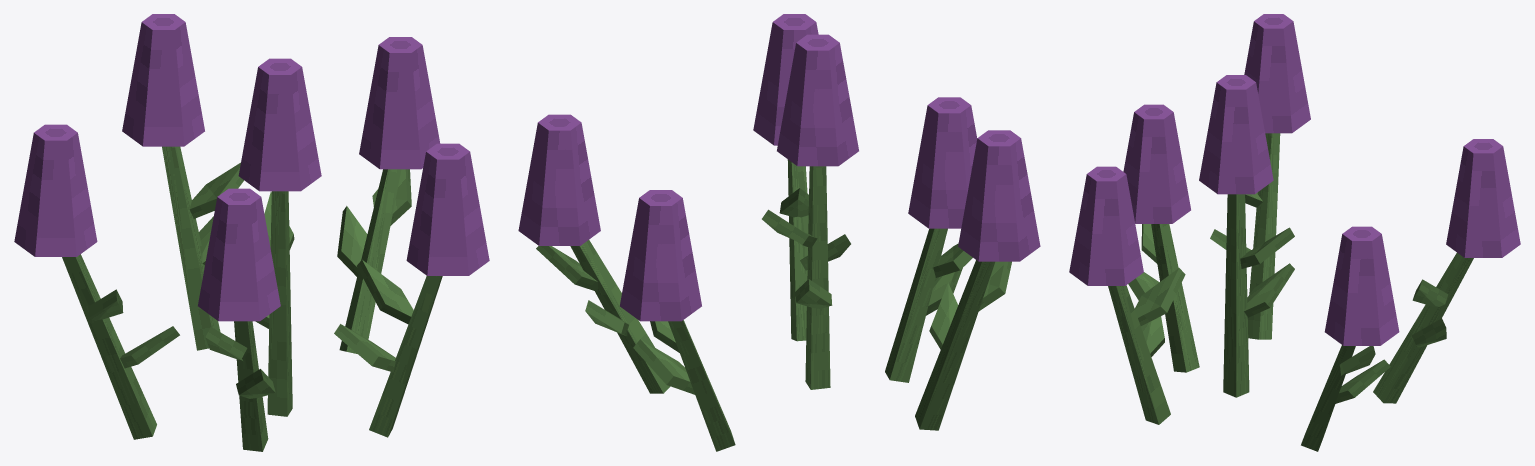
The model's file is f_selfheal.glb.
The picture shows the model from 3 angles, left to right: view 1: azimuth 30°, elevation 25°; view 2: azimuth 150°, elevation 25°; view 3: azimuth 270°, elevation 25°; orthographic projection. The views are drawn at different scales.
Parts seen in each view (by area): view 1: block_pointed-leaf (×9), block_flower-head-0, block_flower-head-1, block_flower-head-2, block_flower-head-3, block_flower-head-4, block_flower-head-5, block_stem-0, block_stem-4, block_stem-2, block_stem-5, block_stem-3 (+1 smaller); view 2: block_pointed-leaf (×10), block_flower-head-0, block_flower-head-2, block_flower-head-4, block_flower-head-5, block_flower-head-1, block_stem-0, block_stem-4, block_flower-head-3, block_stem-1, block_stem-5, block_stem-2 (+1 smaller); view 3: block_pointed-leaf (×8), block_flower-head-0, block_flower-head-5, block_flower-head-3, block_flower-head-2, block_flower-head-1, block_flower-head-4, block_stem-0, block_stem-3, block_stem-2, block_stem-4, block_stem-1 (+1 smaller).
Boxes of the visible parts, x1=… form: block_pointed-leaf (×9): x1=88, y1=162, x2=413, y2=398; block_flower-head-0: x1=238, y1=58, x2=321, y2=191; block_flower-head-1: x1=198, y1=188, x2=280, y2=321; block_flower-head-2: x1=122, y1=14, x2=204, y2=146; block_flower-head-3: x1=406, y1=143, x2=489, y2=275; block_flower-head-4: x1=14, y1=124, x2=97, y2=256; block_flower-head-5: x1=359, y1=37, x2=440, y2=169; block_stem-0: x1=267, y1=191, x2=292, y2=416; block_stem-4: x1=62, y1=254, x2=156, y2=439; block_stem-2: x1=162, y1=146, x2=220, y2=350; block_stem-5: x1=339, y1=169, x2=401, y2=353; block_stem-3: x1=369, y1=276, x2=442, y2=437; block_pointed-leaf (×10): x1=536, y1=188, x2=1011, y2=394; block_flower-head-0: x1=777, y1=34, x2=858, y2=166; block_flower-head-2: x1=620, y1=190, x2=701, y2=321; block_flower-head-4: x1=958, y1=130, x2=1040, y2=261; block_flower-head-5: x1=518, y1=114, x2=600, y2=245; block_flower-head-1: x1=908, y1=97, x2=977, y2=228; block_stem-0: x1=805, y1=166, x2=830, y2=389; block_stem-4: x1=915, y1=260, x2=994, y2=430; block_flower-head-3: x1=753, y1=14, x2=818, y2=145; block_stem-1: x1=885, y1=228, x2=947, y2=382; block_stem-5: x1=570, y1=240, x2=670, y2=393; block_stem-2: x1=668, y1=320, x2=735, y2=451; block_pointed-leaf (×8): x1=1134, y1=227, x2=1448, y2=403; block_flower-head-0: x1=1199, y1=75, x2=1273, y2=194; block_flower-head-5: x1=1324, y1=226, x2=1399, y2=345; block_flower-head-3: x1=1069, y1=166, x2=1143, y2=285; block_flower-head-2: x1=1446, y1=139, x2=1520, y2=257; block_flower-head-1: x1=1123, y1=104, x2=1190, y2=223; block_flower-head-4: x1=1244, y1=14, x2=1310, y2=133; block_stem-0: x1=1223, y1=194, x2=1249, y2=397; block_stem-3: x1=1108, y1=285, x2=1170, y2=424; block_stem-2: x1=1373, y1=253, x2=1473, y2=403; block_stem-4: x1=1247, y1=133, x2=1280, y2=339; block_stem-1: x1=1151, y1=224, x2=1199, y2=372.
Bounding box in the file's own units: 0.5322 × 0.391 × 0.5074.
Materials: 1 (1 with a texture image).
